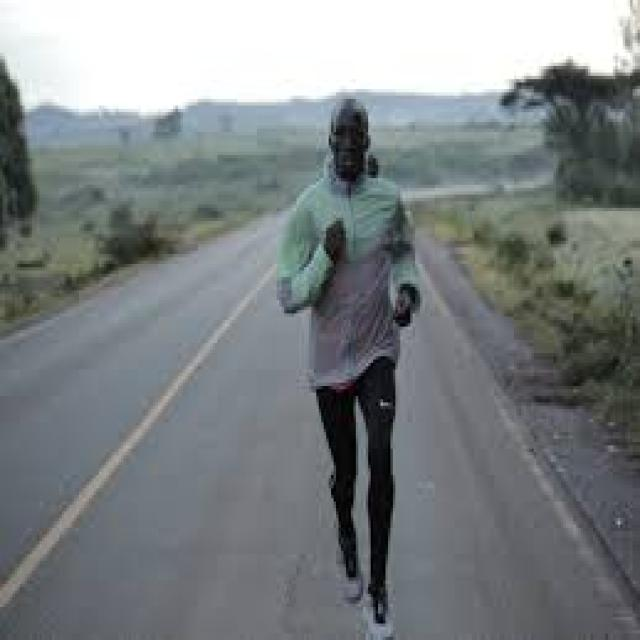running: (278, 94, 423, 640)
